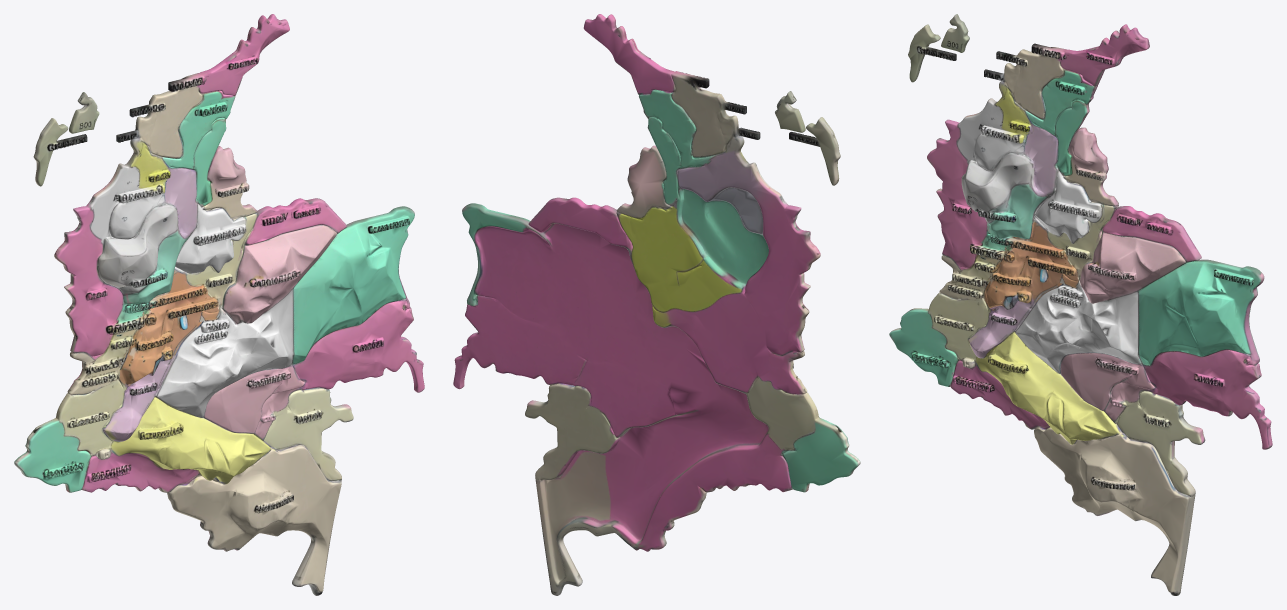
The model's file is mapacolombiacc.glb.
3 views of the same model, side by side, from view 1: azimuth 30°, elevation 25°; view 2: azimuth 150°, elevation 25°; view 3: azimuth 330°, elevation 25° (orthographic). The views are drawn at different scales.
Visible parts, largest first — view 1: node_0; view 2: node_0; view 3: node_0.
Part boxes in pixels (<box>): node_0: <box>14,14,424,595</box>; node_0: <box>453,14,860,595</box>; node_0: <box>889,14,1272,595</box>.
Size of the model in its own units: 0.8118 by 1.13 by 0.0648.
Materials: 1 (1 with a texture image).
